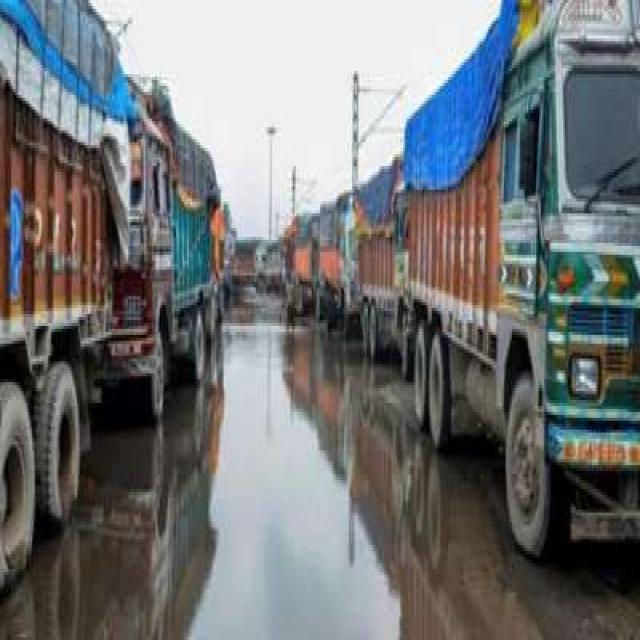truck: (402, 0, 640, 557)
